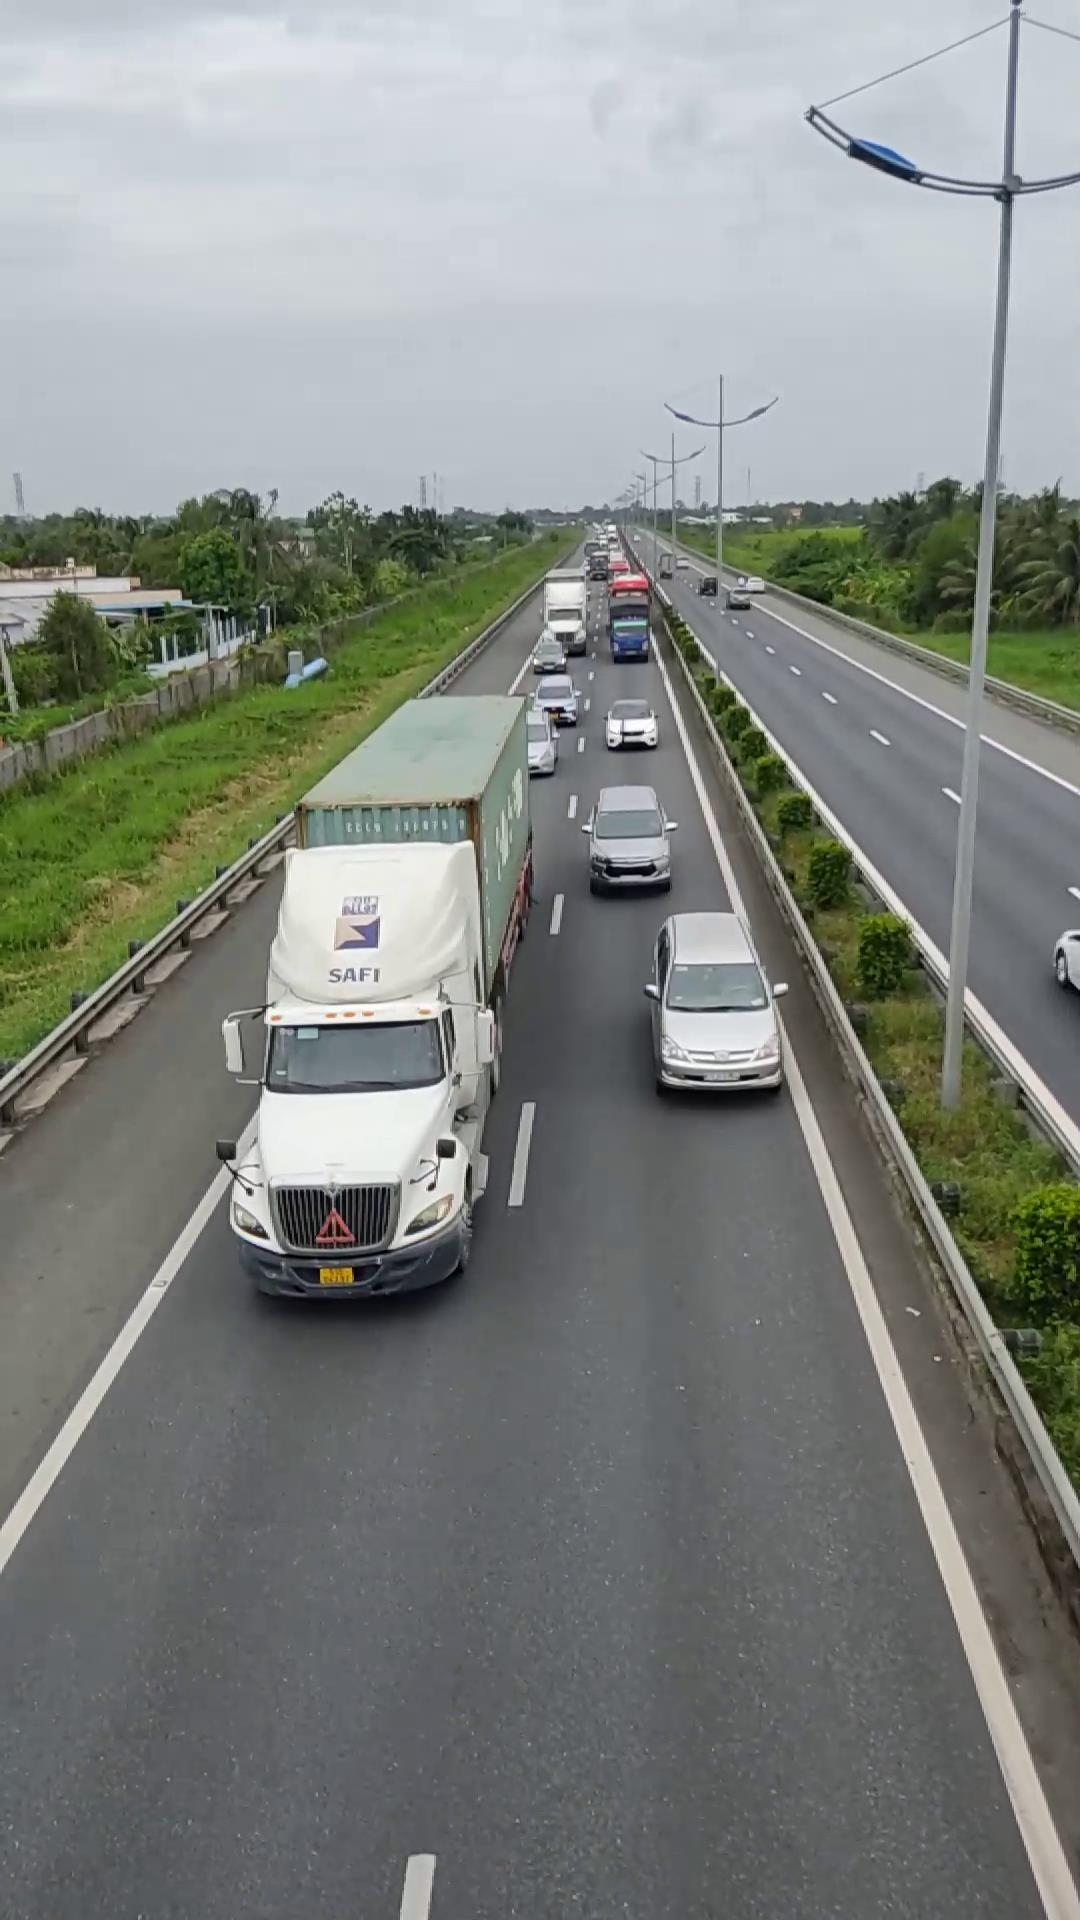car: (642, 909, 787, 1096), (582, 785, 675, 893)
container: (220, 684, 533, 1300)
